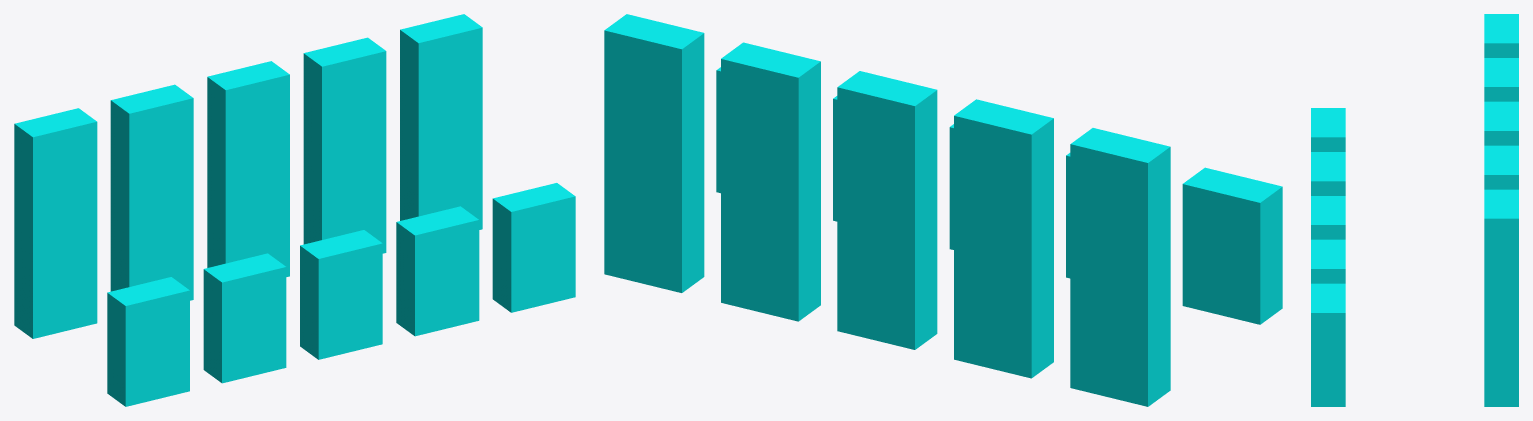
The model's file is 简易小区.gltf.
The picture shows the model from 3 angles, left to right: view 1: azimuth 30°, elevation 25°; view 2: azimuth 150°, elevation 25°; view 3: azimuth 270°, elevation 25°; orthographic projection. The views are drawn at different scales.
Visible parts, largest first — view 1: 1号楼, 4号楼, 2号楼, 5号楼, 3号楼, 7号楼, 9号楼, 10号楼, 6号楼, 8号楼; view 2: 5号楼, 1号楼, 3号楼, 2号楼, 4号楼, 6号楼, 10号楼, 7号楼, 9号楼, 8号楼; view 3: 5号楼, 10号楼, 9号楼, 3号楼, 4号楼, 6号楼, 7号楼, 8号楼, 1号楼, 2号楼.
Boxes of the visible parts, <box> form: 1号楼: <box>14,108,97,338</box>; 4号楼: <box>303,37,386,253</box>; 2号楼: <box>110,84,193,300</box>; 5号楼: <box>400,14,482,229</box>; 3号楼: <box>207,61,289,276</box>; 7号楼: <box>203,253,286,383</box>; 9号楼: <box>396,206,479,336</box>; 10号楼: <box>492,183,575,312</box>; 6号楼: <box>107,277,189,406</box>; 8号楼: <box>300,230,382,359</box>; 5号楼: <box>604,14,704,292</box>; 1号楼: <box>1070,128,1170,406</box>; 3号楼: <box>837,71,937,349</box>; 2号楼: <box>954,99,1053,378</box>; 4号楼: <box>721,42,820,321</box>; 6号楼: <box>1182,167,1282,324</box>; 10号楼: <box>716,67,720,193</box>; 7号楼: <box>1066,153,1070,278</box>; 9号楼: <box>833,96,837,221</box>; 8号楼: <box>949,124,953,249</box>; 5号楼: <box>1484,189,1518,406</box>; 10号楼: <box>1311,283,1345,406</box>; 9号楼: <box>1311,239,1345,283</box>; 3号楼: <box>1484,101,1518,145</box>; 4号楼: <box>1484,145,1518,189</box>; 6号楼: <box>1311,108,1345,151</box>; 7号楼: <box>1311,152,1345,195</box>; 8号楼: <box>1311,196,1345,239</box>; 1号楼: <box>1484,14,1518,57</box>; 2号楼: <box>1484,58,1518,101</box>.
Size of the model in its own units: 140 by 60 by 60.
